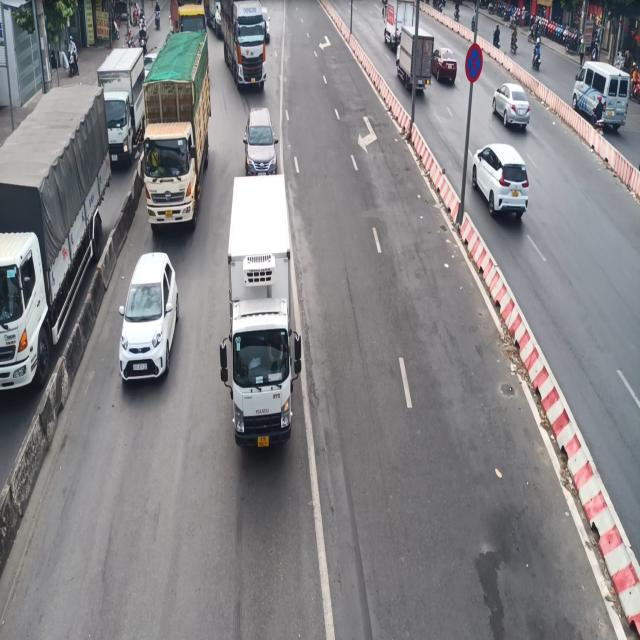car: (118, 241, 180, 384), (246, 98, 282, 185)
truck: (0, 83, 114, 399), (218, 164, 311, 447), (144, 24, 215, 232), (222, 0, 274, 102)
